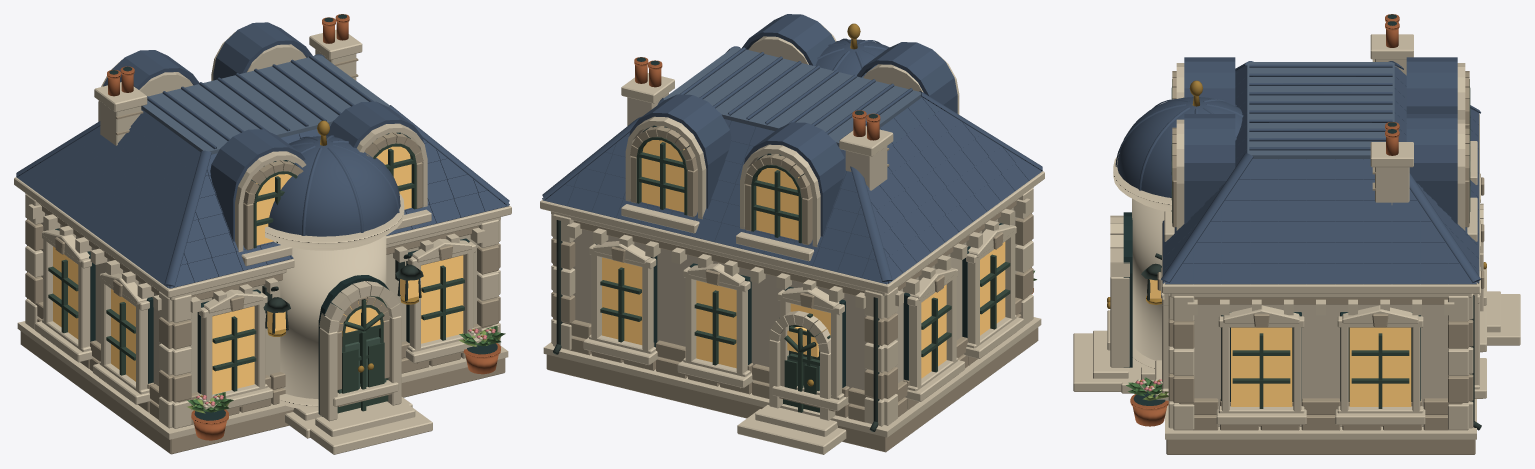
3 renders of one model, left to right at view 1: azimuth 30°, elevation 25°; view 2: azimuth 150°, elevation 25°; view 3: azimuth 270°, elevation 25°, orthographic. The views are drawn at different scales.
Parts seen in each view (by area): view 1: classic_tower_1_geometry, classic_tower_1_geometry ceramic; view 2: classic_tower_1_geometry, classic_tower_1_geometry ceramic; view 3: classic_tower_1_geometry, classic_tower_1_geometry ceramic.
Boxes of the visible parts, x1,y1,x2,y2 form: classic_tower_1_geometry: (14,14,511,454); classic_tower_1_geometry ceramic: (16,22,509,288); classic_tower_1_geometry: (540,23,1044,454); classic_tower_1_geometry ceramic: (542,14,1042,284); classic_tower_1_geometry: (1073,14,1520,454); classic_tower_1_geometry ceramic: (1115,57,1480,284).
Bounding box in the file's own units: 0.9335 × 0.7272 × 0.99.
